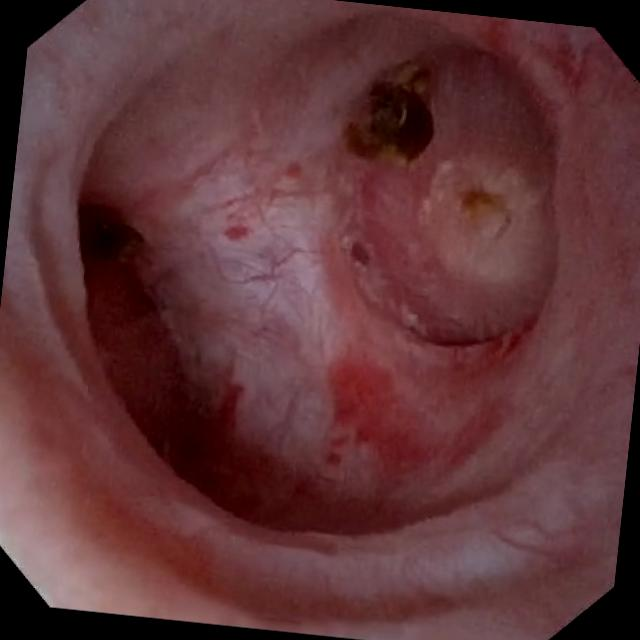stone-new: (344, 66, 433, 165), (79, 205, 143, 265), (346, 240, 369, 268)
